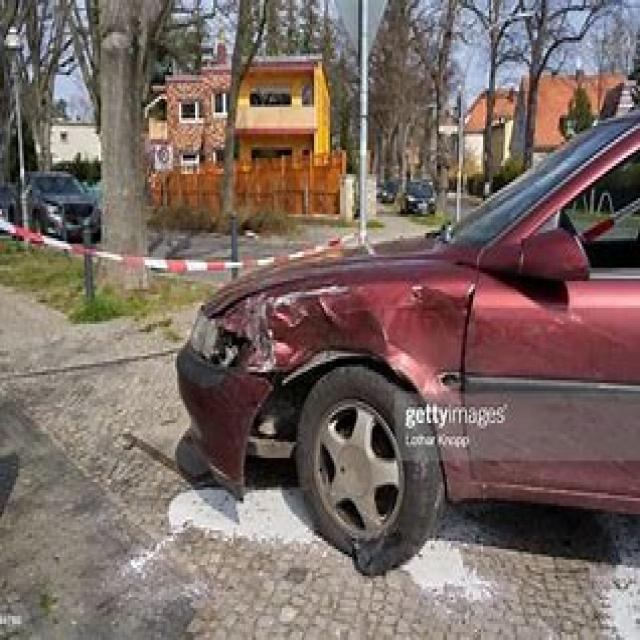Accident: (124, 138, 595, 640)
